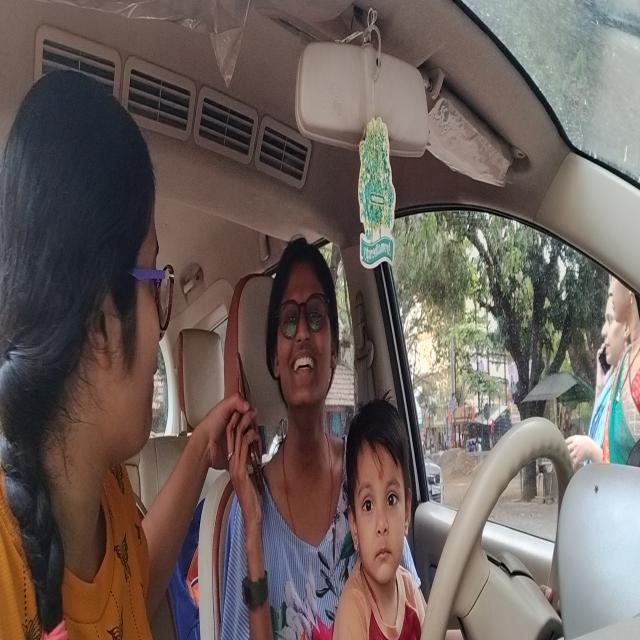child: (344, 430, 412, 582)
person: (70, 78, 174, 469), (271, 240, 339, 410)
talking: (290, 352, 321, 381)
